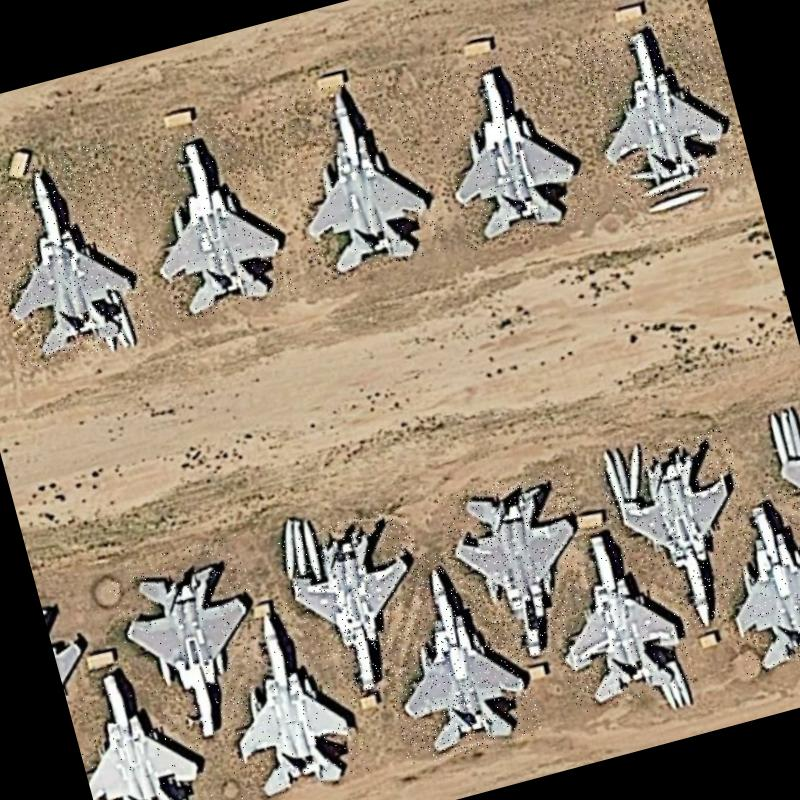A13: (357, 535, 543, 768), (266, 64, 449, 287), (103, 533, 284, 751), (594, 424, 774, 642), (193, 589, 374, 800), (419, 41, 599, 252), (0, 138, 159, 371), (436, 463, 613, 670), (274, 504, 450, 710), (127, 113, 297, 324), (571, 6, 749, 206), (529, 507, 698, 714), (60, 641, 219, 800), (698, 473, 800, 680)
